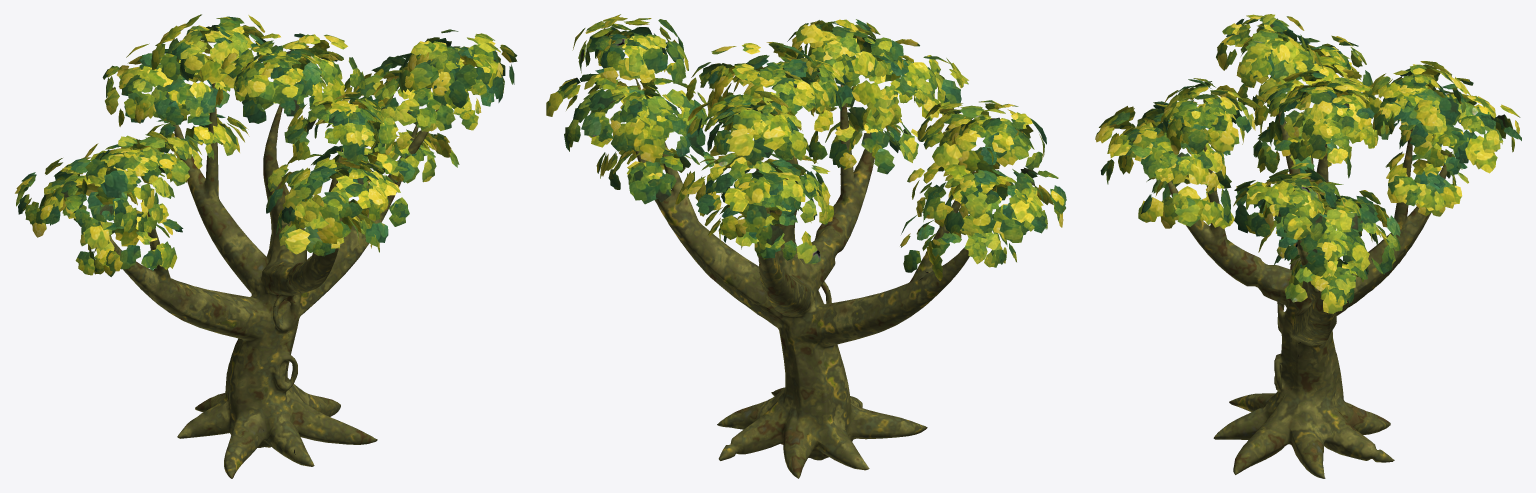
The model's file is open_canopy_lod0.glb.
The picture shows the model from 3 angles, left to right: view 1: azimuth 30°, elevation 25°; view 2: azimuth 150°, elevation 25°; view 3: azimuth 270°, elevation 25°; orthographic projection. The views are drawn at different scales.
Parts seen in each view (by area): view 1: Leaves_LOD0.001, Trunk_LOD0.001; view 2: Leaves_LOD0.001, Trunk_LOD0.001; view 3: Leaves_LOD0.001, Trunk_LOD0.001.
Part boxes in pixels (bbox=[...]): Leaves_LOD0.001: bbox=[15, 14, 517, 276]; Trunk_LOD0.001: bbox=[100, 83, 442, 478]; Leaves_LOD0.001: bbox=[546, 14, 1066, 280]; Trunk_LOD0.001: bbox=[635, 78, 974, 478]; Leaves_LOD0.001: bbox=[1095, 14, 1521, 313]; Trunk_LOD0.001: bbox=[1168, 77, 1452, 478].
Bounding box in the file's own units: 7.15 × 5.47 × 5.55.
2 materials, 2 textured.
